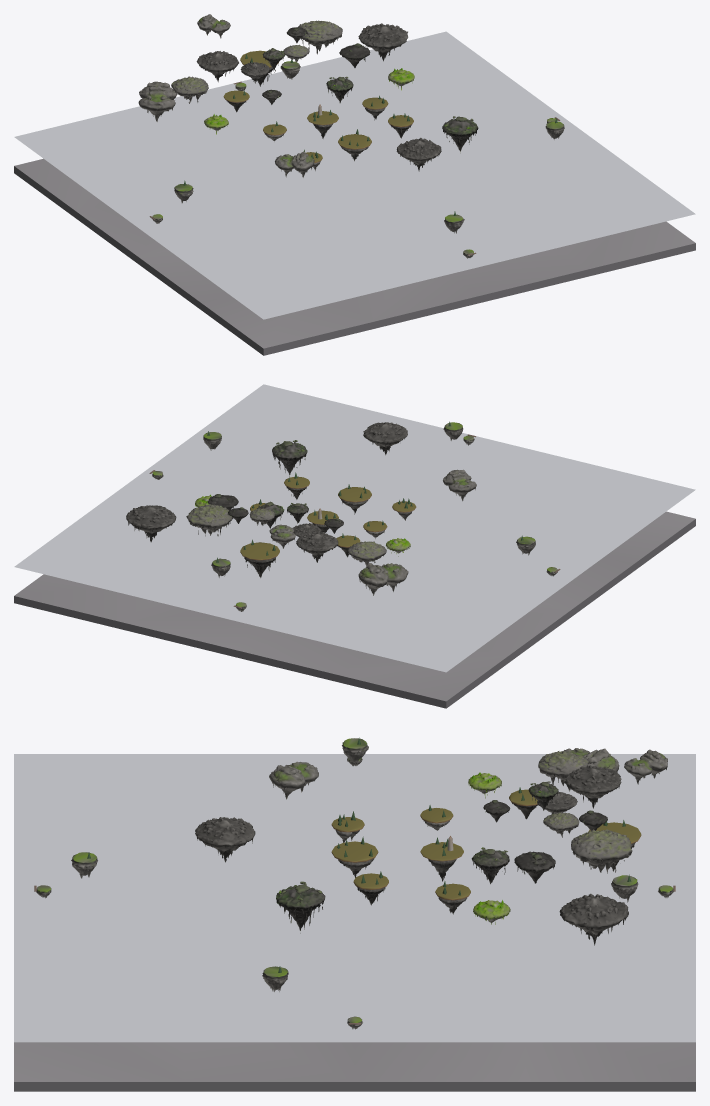
The model's file is near.glb.
3 renders of one model, top to bottom at view 1: azimuth 30°, elevation 25°; view 2: azimuth 150°, elevation 25°; view 3: azimuth 270°, elevation 25°, orthographic. The views are drawn at different scales.
Parts seen in each view (by area): view 1: near-placeholder; view 2: near-placeholder; view 3: near-placeholder.
Boxes of the visible parts, <box> form: near-placeholder: <box>14,14,695,355</box>; near-placeholder: <box>14,384,695,708</box>; near-placeholder: <box>14,737,695,1091</box>.
Size of the model in its own units: 500 by 138 by 500.
